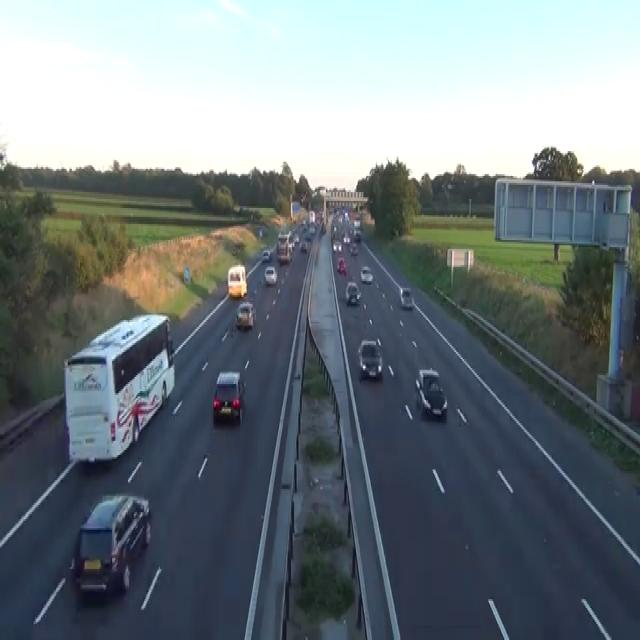Car: (69, 493, 151, 599), (212, 370, 245, 423), (414, 368, 447, 420), (357, 338, 382, 378), (235, 300, 255, 329), (415, 368, 439, 391), (345, 281, 361, 304), (399, 286, 413, 308), (264, 265, 277, 284), (360, 265, 373, 283), (336, 256, 346, 276), (183, 265, 191, 284), (261, 247, 270, 263), (332, 240, 342, 252), (353, 229, 361, 242), (300, 240, 308, 252), (350, 244, 358, 256), (308, 222, 316, 233), (231, 245, 238, 256), (332, 240, 338, 251), (343, 234, 350, 243), (293, 233, 299, 243), (392, 228, 399, 236), (321, 222, 326, 233), (258, 228, 262, 236)
Truck: (63, 311, 175, 464), (227, 263, 247, 297)
